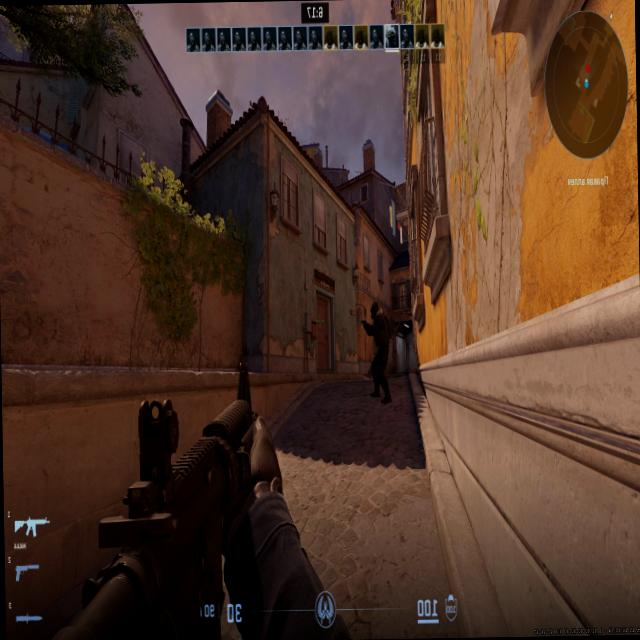CT: (372, 304, 388, 396)
CT_heat: (374, 308, 379, 318)
